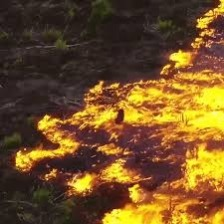incendio: (26, 9, 221, 224)
